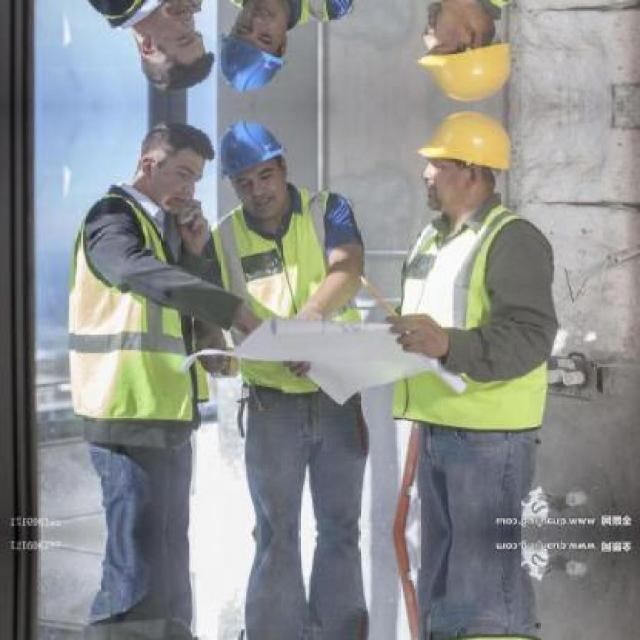Reflective-Jacket: (383, 203, 565, 440), (54, 186, 214, 442), (205, 188, 368, 409)
Safety-Helmet: (411, 106, 526, 186), (417, 37, 517, 105), (212, 111, 300, 184), (123, 111, 217, 170), (212, 31, 288, 100)
